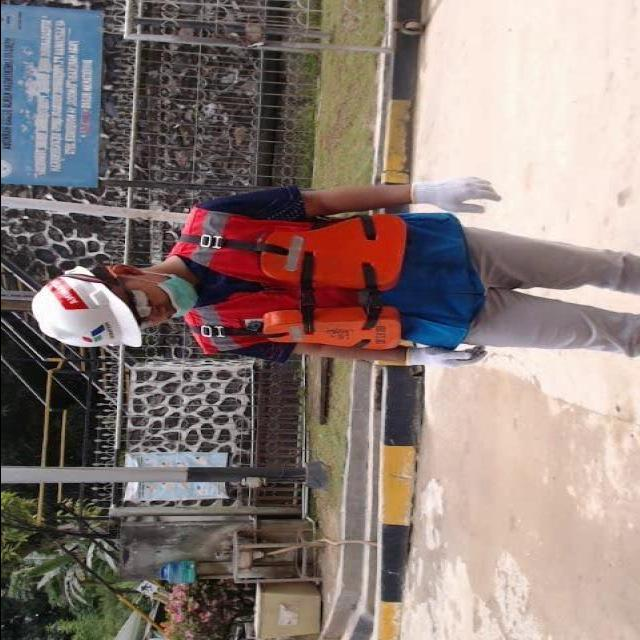helmet: (22, 248, 144, 352)
jacket: (154, 182, 408, 360)
